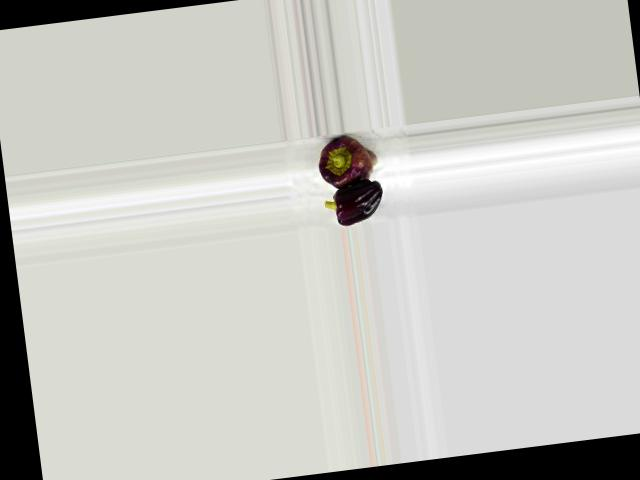bell_pepper: (303, 129, 390, 193)
